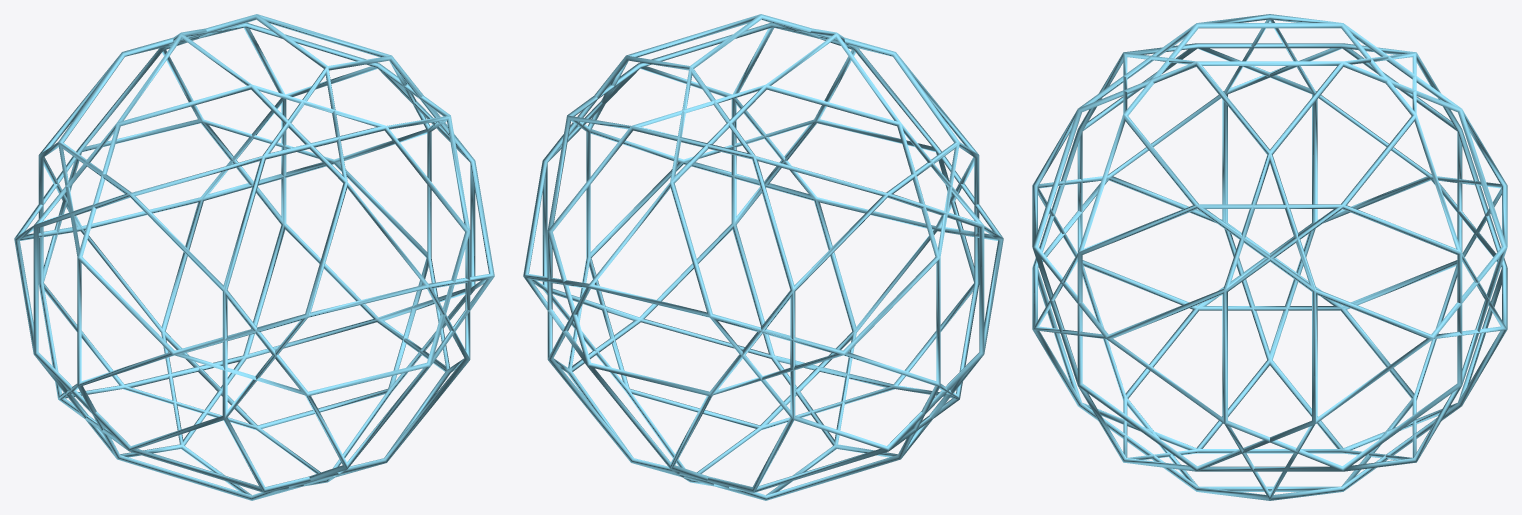
The model's file is SmallIcosicosidodecahedron2.glb.
3 views of the same model, side by side, from view 1: azimuth 30°, elevation 25°; view 2: azimuth 150°, elevation 25°; view 3: azimuth 270°, elevation 25° (orthographic). The views are drawn at different scales.
Visible parts, largest first — view 1: SmallIcosicosidodecahedron; view 2: SmallIcosicosidodecahedron; view 3: SmallIcosicosidodecahedron.
Part boxes in pixels (<box>): SmallIcosicosidodecahedron: <box>14,14,494,500</box>; SmallIcosicosidodecahedron: <box>523,14,1003,500</box>; SmallIcosicosidodecahedron: <box>1032,14,1507,500</box>.
Size of the model in its own units: 3.27 by 3.27 by 3.27.
